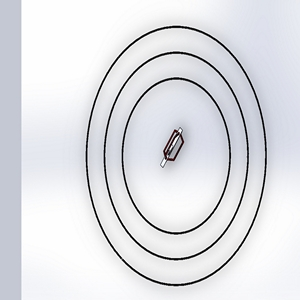circle: (82, 21, 267, 291)
submarine: (150, 122, 200, 179)
